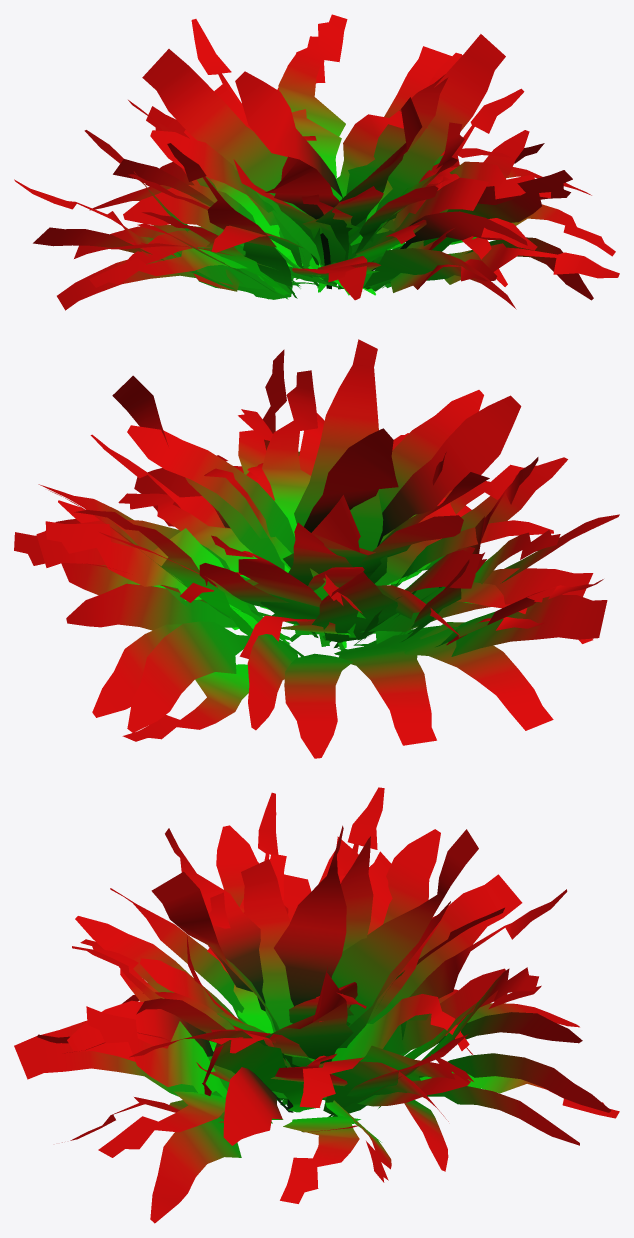
Rendered from Boston Fern_LOD1_Var1_rhDrC.fbx.
3 views of the same model, one above another, from view 1: azimuth 30°, elevation 25°; view 2: azimuth 150°, elevation 25°; view 3: azimuth 270°, elevation 25° (orthographic). The views are drawn at different scales.
Visible parts, largest first — view 1: _c9a8_Var1_LOD1; view 2: _c9a8_Var1_LOD1; view 3: _c9a8_Var1_LOD1.
Boxes of the visible parts, x1=… form: _c9a8_Var1_LOD1: x1=14, y1=14, x2=619, y2=310; _c9a8_Var1_LOD1: x1=14, y1=339, x2=619, y2=758; _c9a8_Var1_LOD1: x1=14, y1=787, x2=619, y2=1223.
Size of the model in its own units: 12.78 by 5.37 by 11.3.
